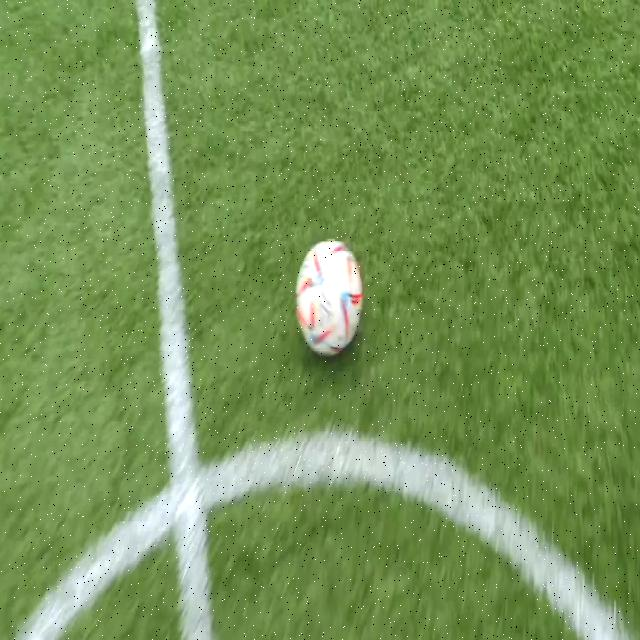ball: (296, 239, 362, 356)
